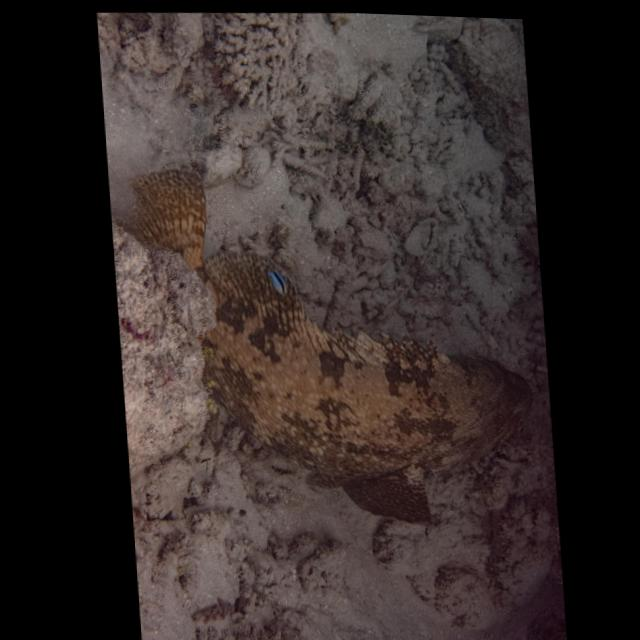Groupers: (130, 156, 542, 540)
